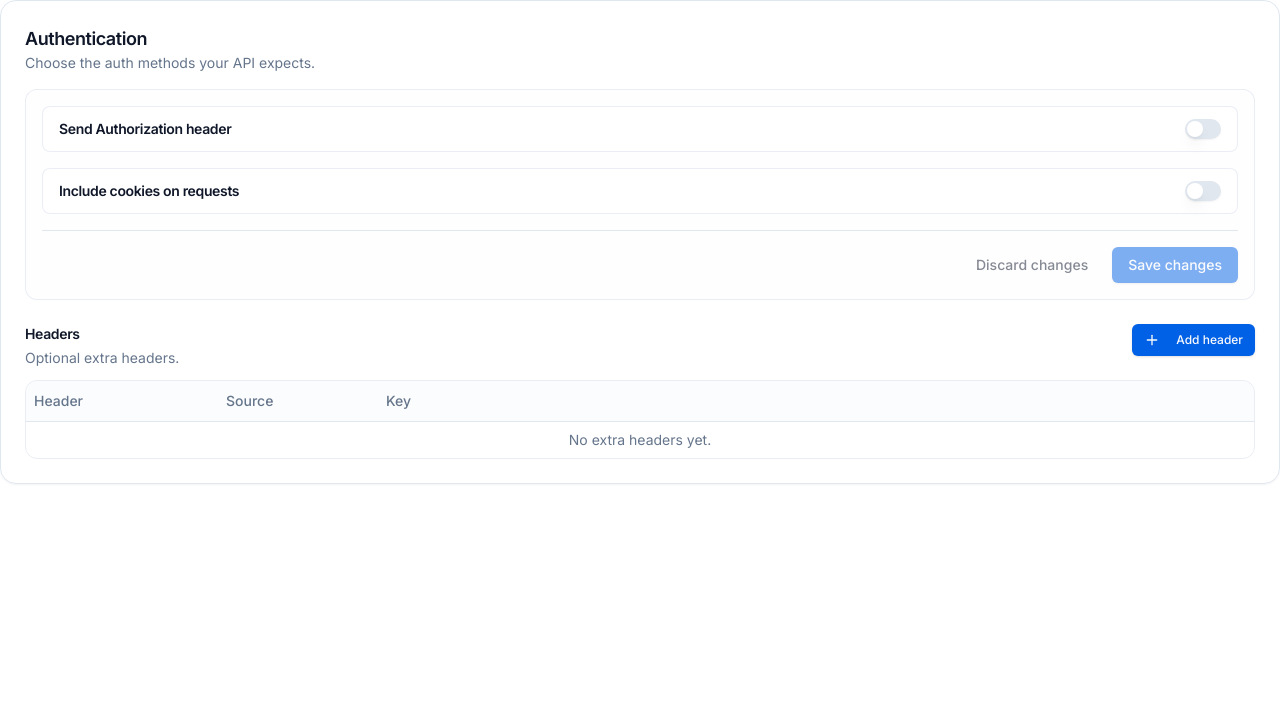
SessionHeadersPanel › blocks Authorization from being added as a custom header
This screenshot has width=1280, height=720.
Click the button with test id "open-header-dialog".
click(1194, 340)  # box left=1132, top=324, right=1255, bottom=356
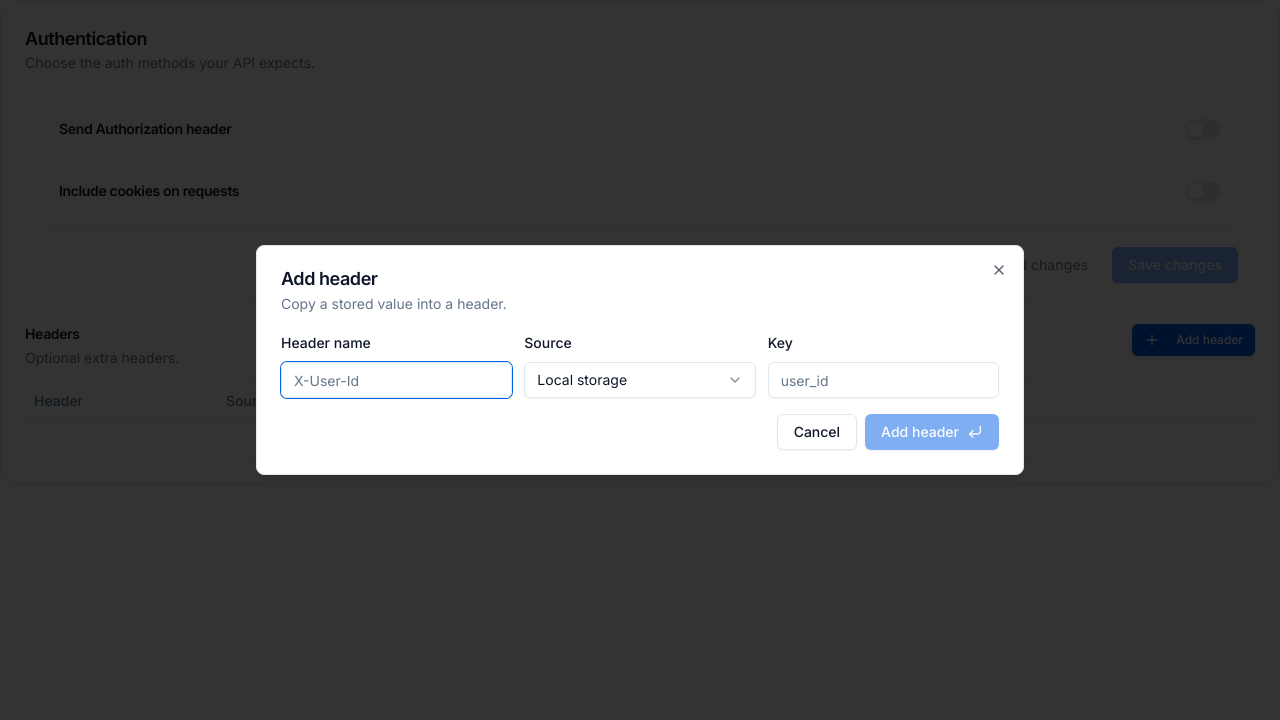
Type "Authorization" into the field with test id "header-name-input".
click(397, 380); type("Authorization")  # box left=281, top=362, right=512, bottom=398
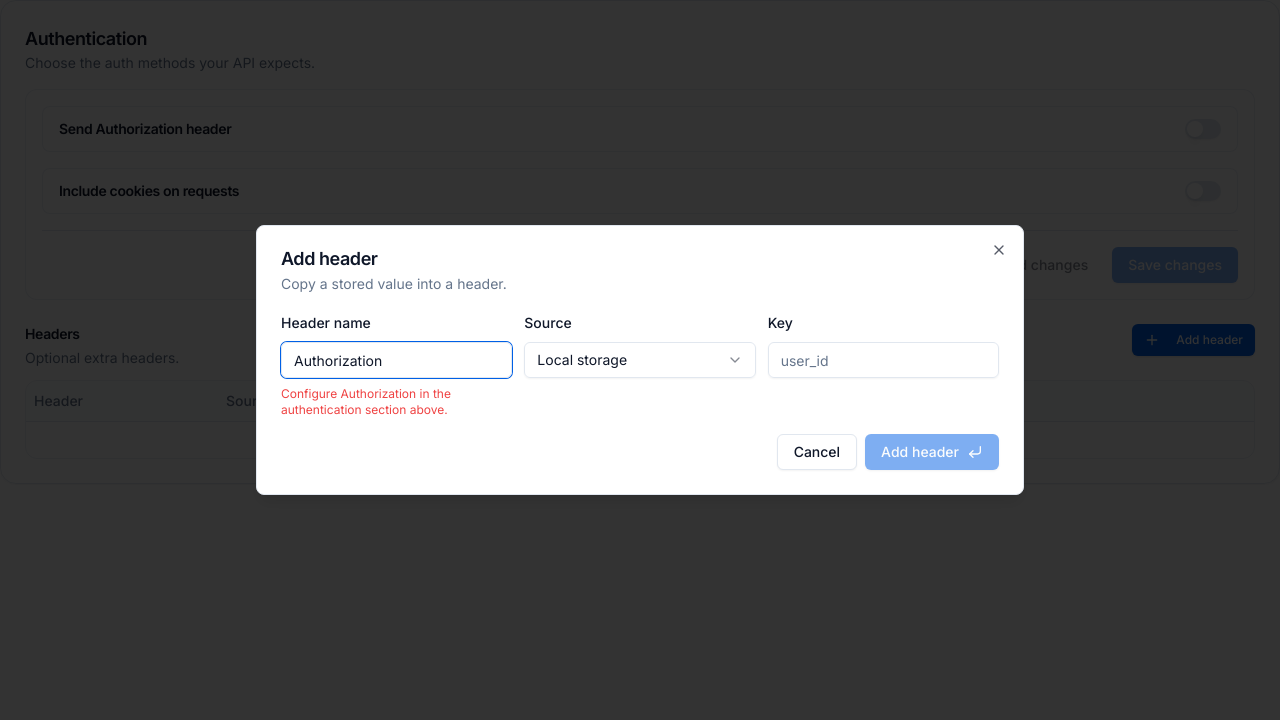
expect the button with test id "save-header" is disabled: met, box left=865, top=434, right=999, bottom=470
expect the text "Configure Authorization in the authentication section above." is shown: met, box left=281, top=386, right=451, bottom=417
